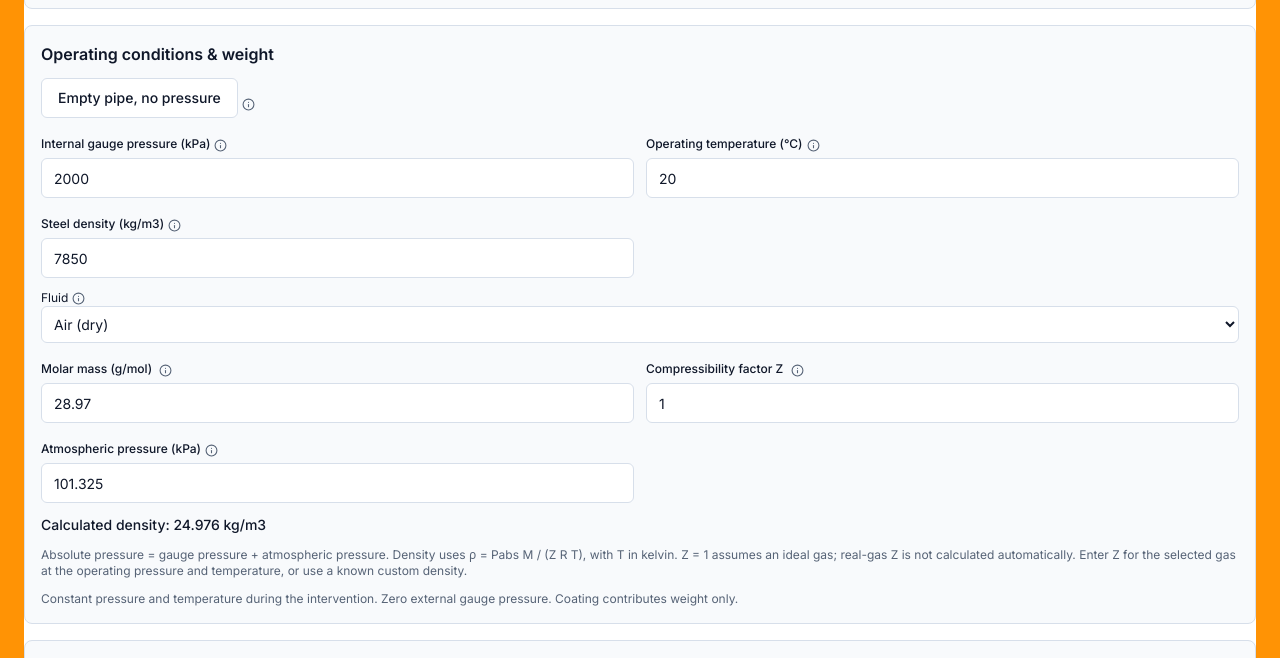
Test case: exposes full spans, hides movement, empties gas explicitly and retains movement settings
The image size is (1280, 658).
Earlier steps of the test are not shown.
(page scrolled)
Click the button "Empty pipe, no pressure" at (139, 98), box [41,78,238,118]
(page scrolled)
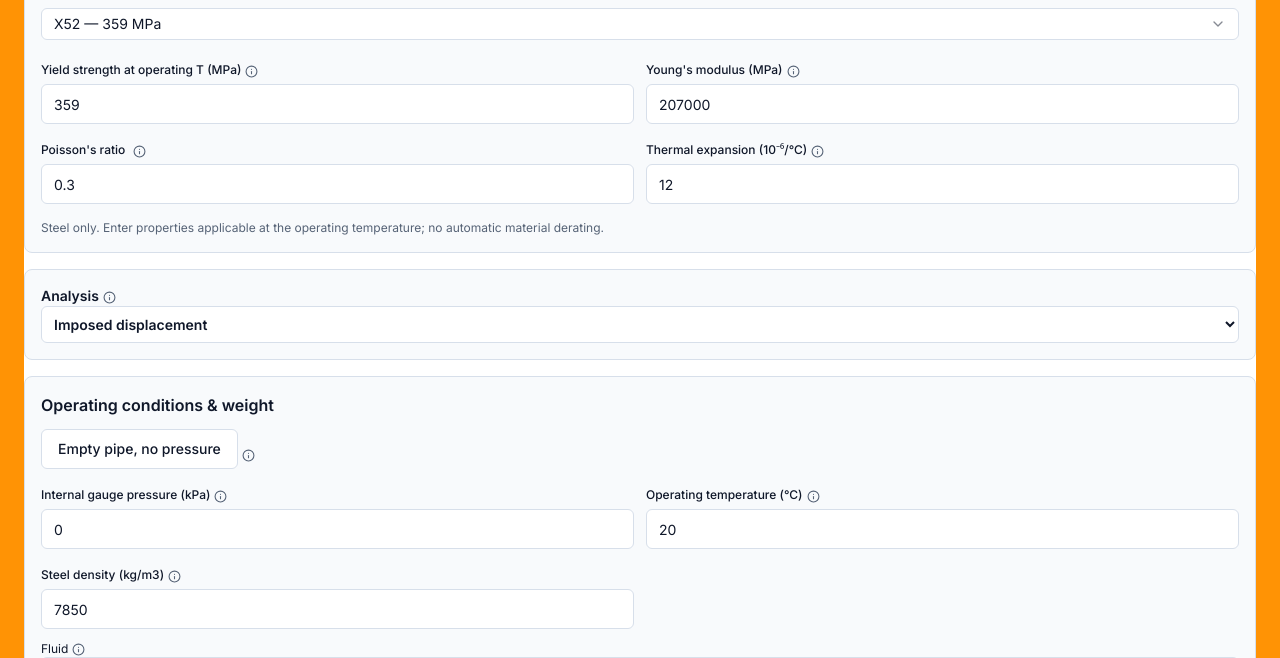
Check: the number field labelled "Internal gauge pressure (kPa)" holds "0", box [41,509,634,549]
Select "Sag only — deflection under self-weight" in the dropdown named "Analysis type" at (640, 324), box [41,306,1239,343]
(page scrolled)
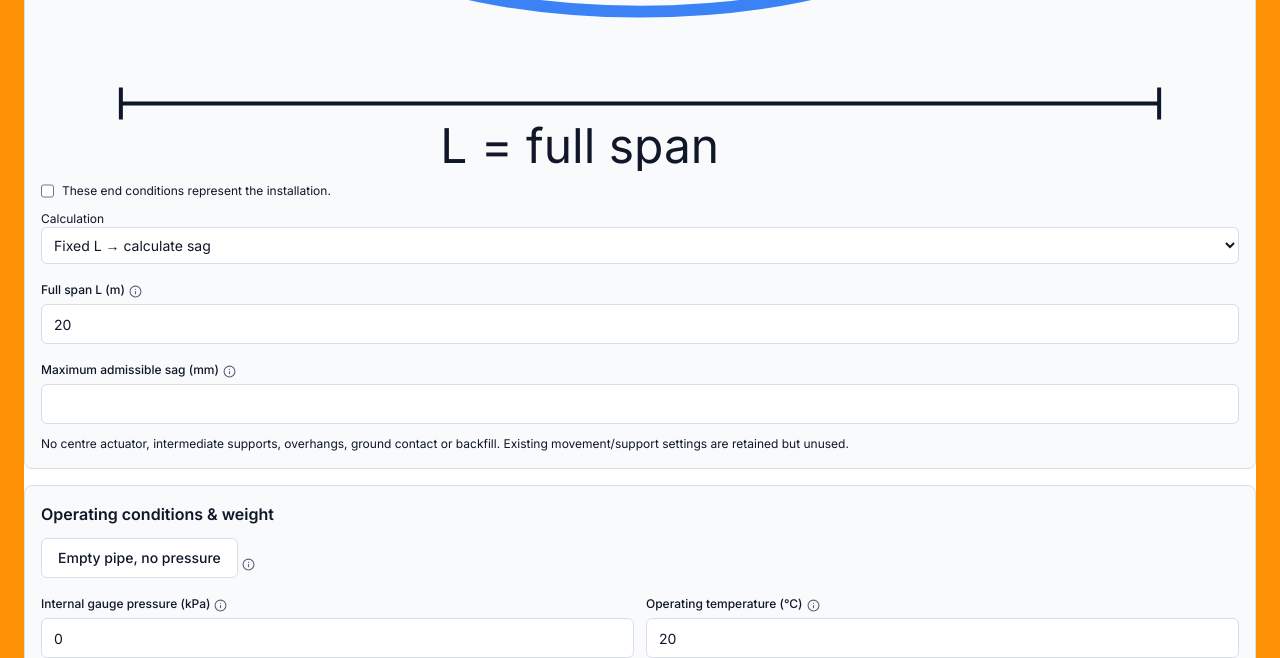
Check: the field labelled "Target amplitude (mm)" is not shown
Check: the number field labelled "Full span L (m)" holds "20"
Replace the text in the number field labelled "Full span L (m)" with "12" at (640, 324), box [41,304,1239,344]
Click the checkbox named "Sag boundary conditions confirmed" at (48, 191), box [41,183,54,199]
(page scrolled)
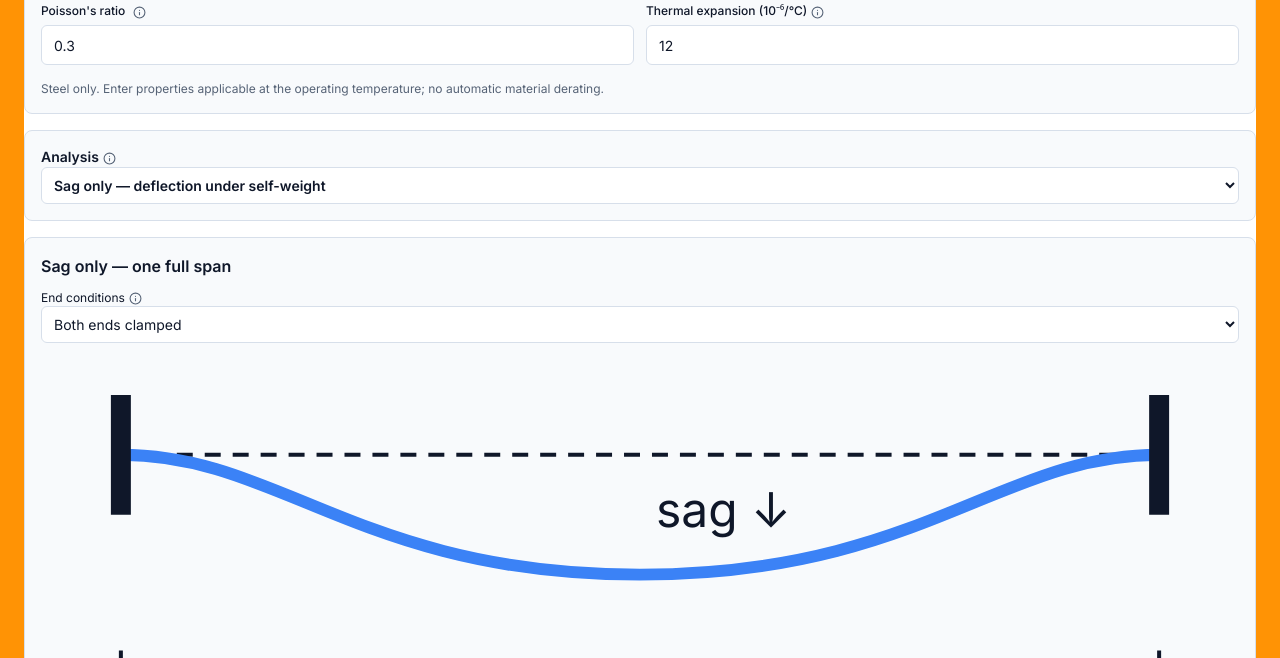
Select "Two simple supports — axial sliding free" in the dropdown named "Sag end conditions" at (640, 324), box [41,306,1239,343]
(page scrolled)
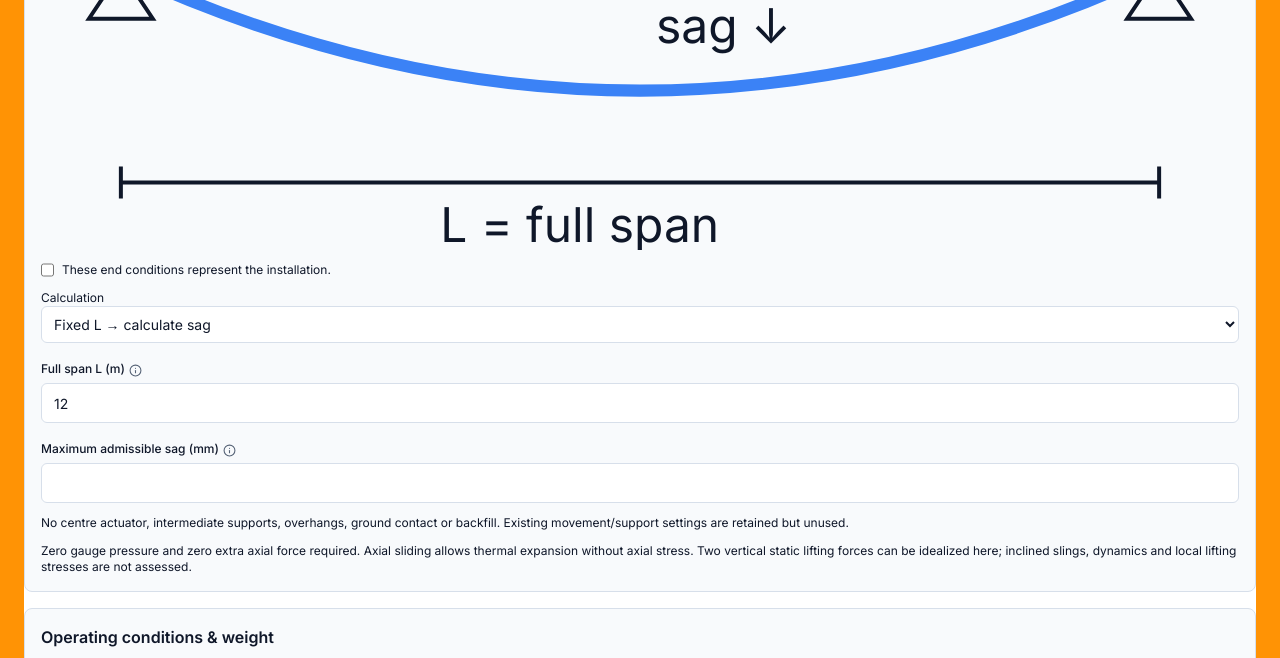
Check: the checkbox named "Sag boundary conditions confirmed" is not checked, box [41,262,54,278]
Select "Find L → maximum admissible sag" in the dropdown named "Sag calculation" at (640, 325), box [41,306,1239,343]
(page scrolled)
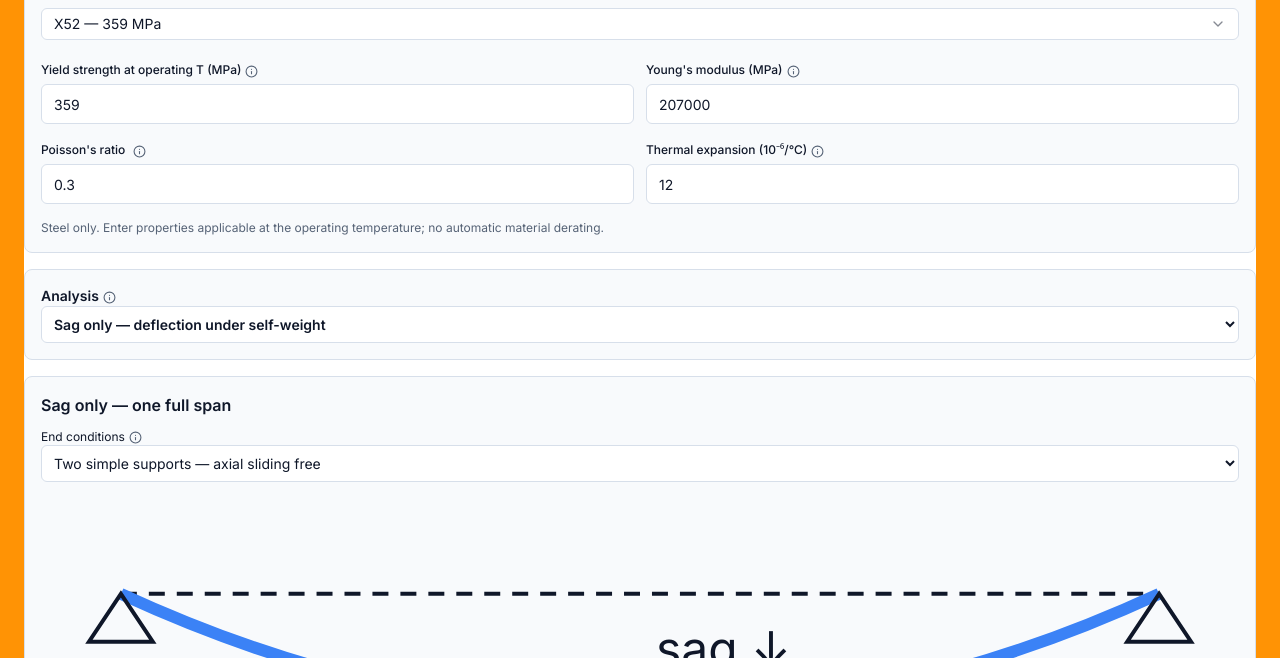
Select "Imposed displacement" in the dropdown named "Analysis type" at (640, 324), box [41,306,1239,343]
(page scrolled)
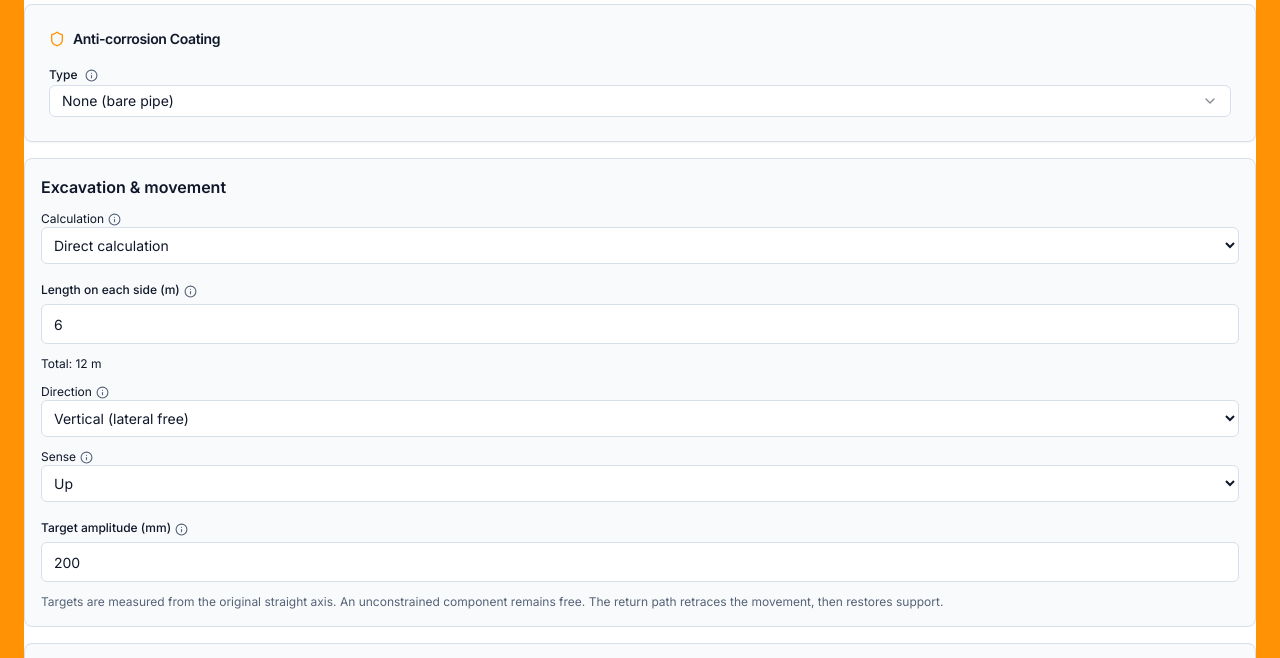
Check: the number field labelled "Target amplitude (mm)" holds "200", box [41,542,1239,582]
Check: the number field labelled "Length on each side (m)" holds "6", box [41,304,1239,344]
